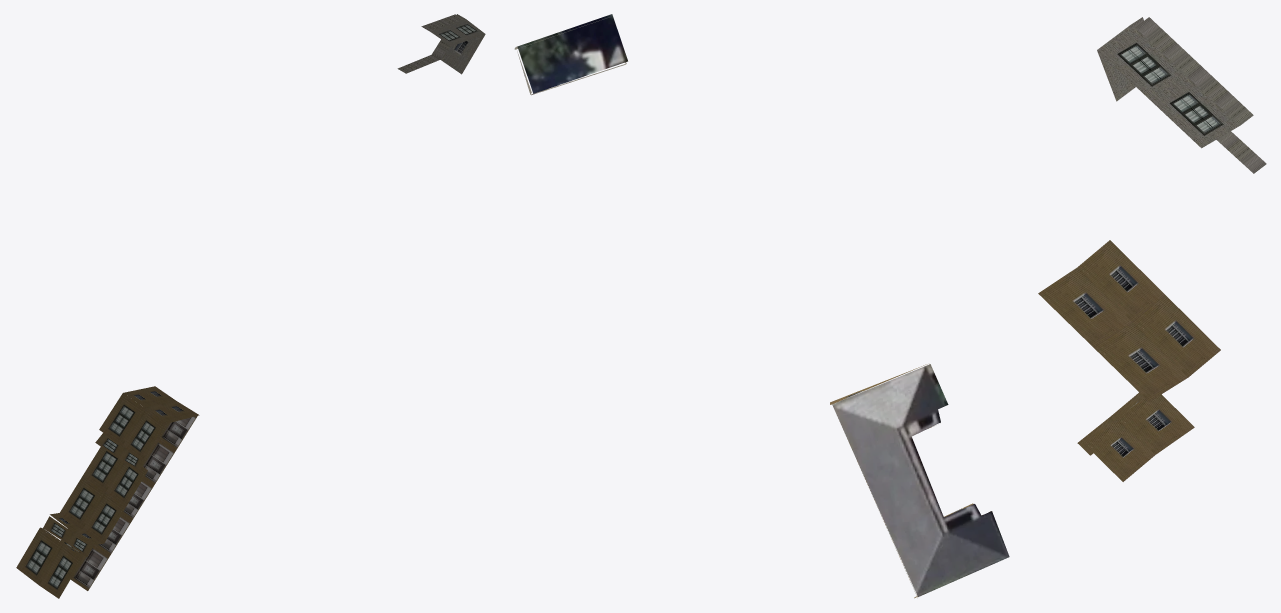
File: tile_LOD4_r14_c3.glb
3 views of the same model, side by side, from view 1: azimuth 30°, elevation 25°; view 2: azimuth 150°, elevation 25°; view 3: azimuth 270°, elevation 25° (orthographic). The views are drawn at different scales.
Bounding box in the file's own units: 72.75 × 71.75 × 17.5.
Materials: 10 (10 with a texture image).
